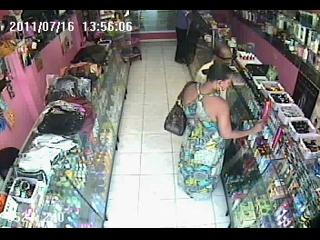Normal: (177, 66, 272, 200), (164, 98, 187, 136)
